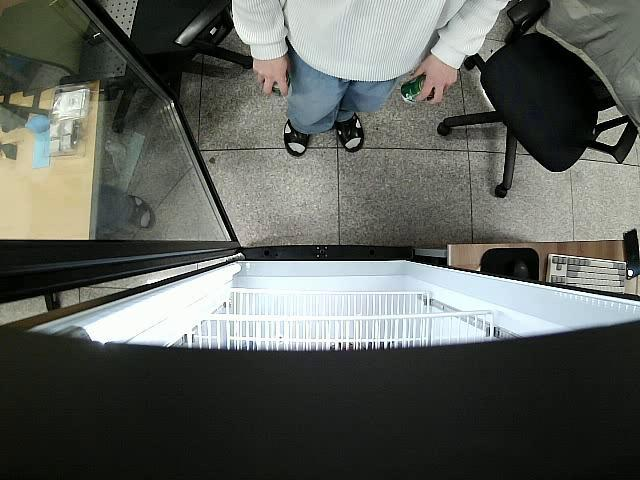12_chilsungCider: (400, 74, 434, 105), (272, 72, 290, 94)
